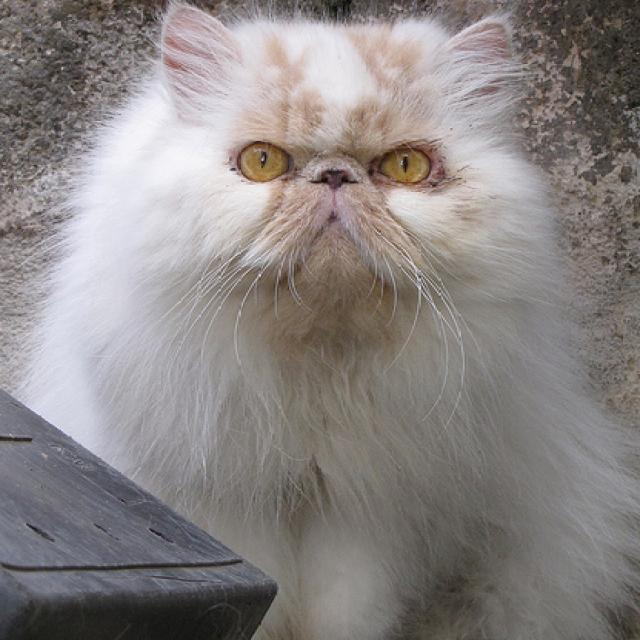Persian: (27, 0, 638, 640)
